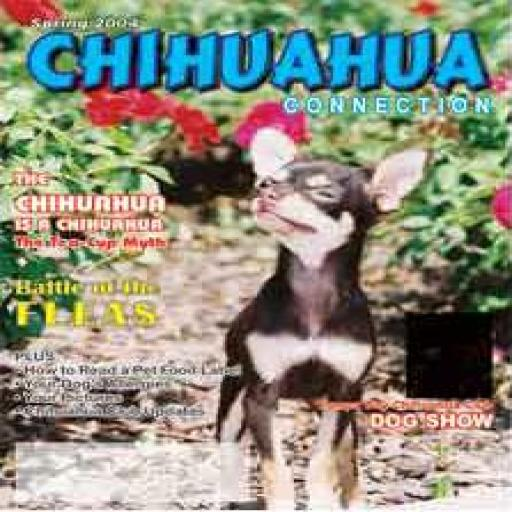dog_face: (230, 126, 440, 249)
